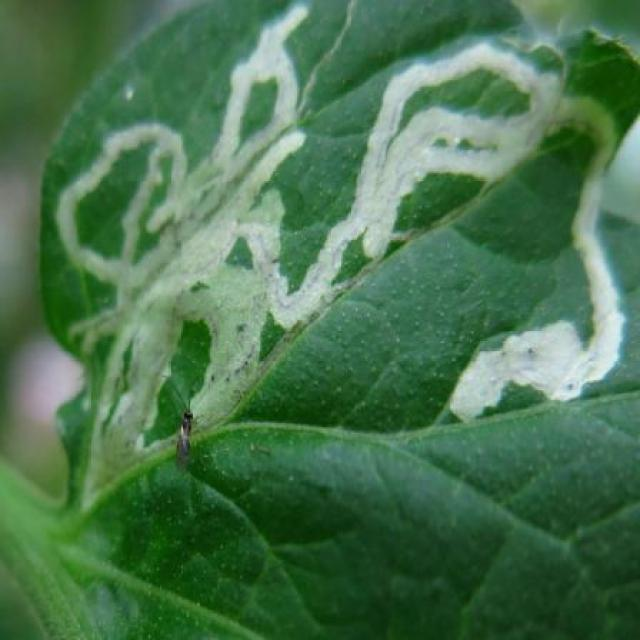Leaf Miner: (41, 0, 640, 516)
